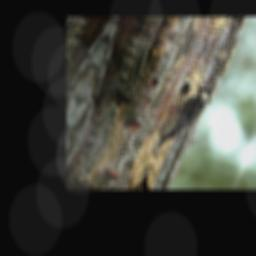Woodpecker: (147, 72, 219, 162)
